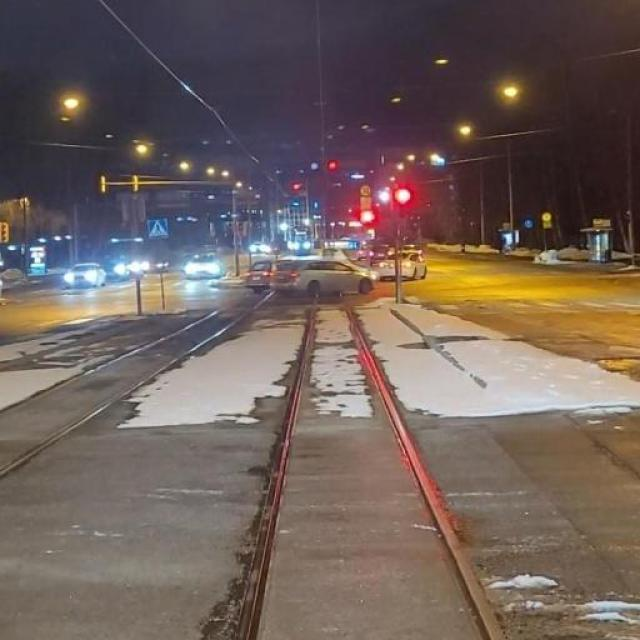vehicle: (269, 256, 382, 302), (244, 256, 280, 288)
